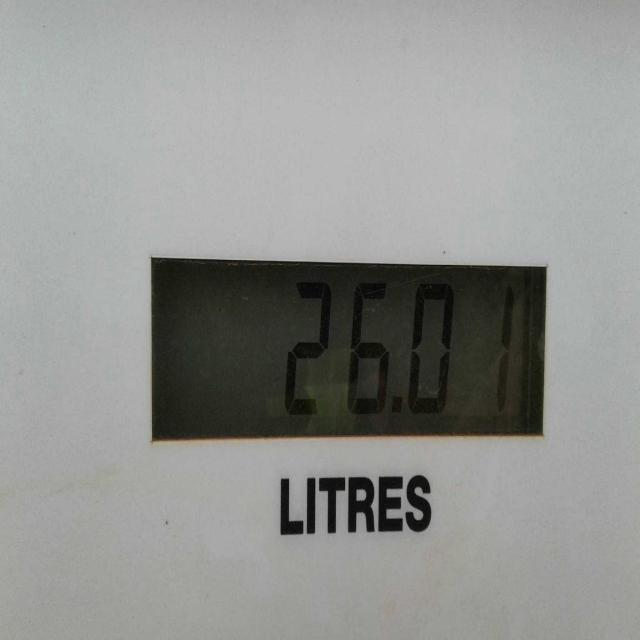.: (393, 395, 410, 432)
0: (410, 282, 452, 413)
1: (492, 286, 516, 406)
2: (284, 284, 328, 416)
6: (347, 280, 393, 424)
